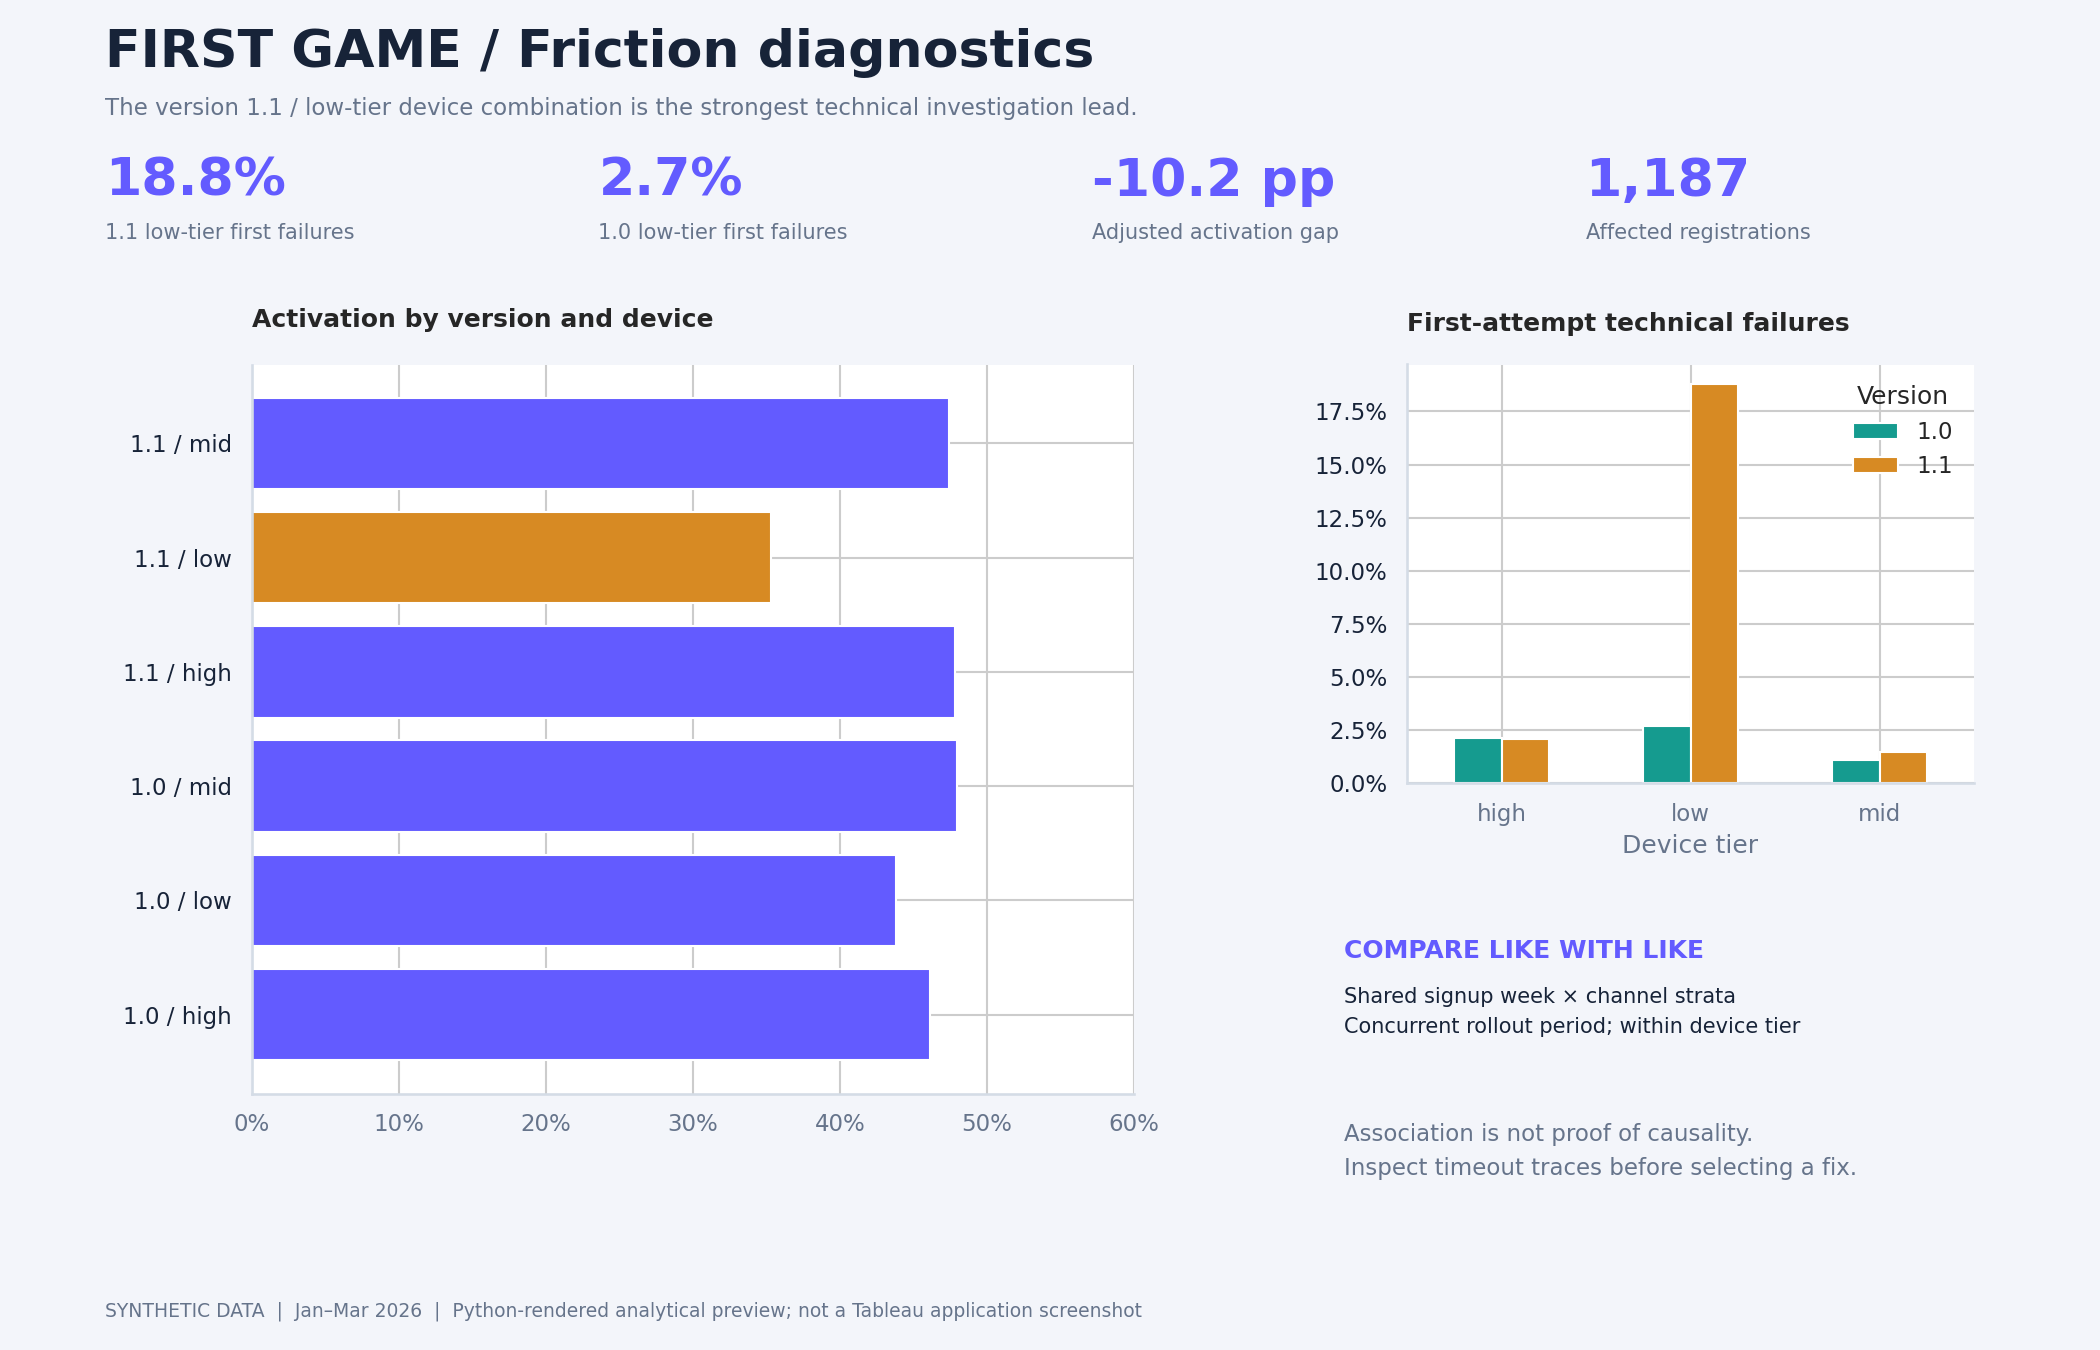

This screenshot's page, from the dashboard's own definition file:
{"tool":"tableau","page":{"name":"02 Friction diagnostics · SYNTHETIC","canvas":[1400,1000],"ordinal":1},"visuals":[{"type":"worksheet","title":"04 Activation by version and device","mark":"Bar","rows":["Category"],"cols":["Metric"],"box":[14,10,1372,320]},{"type":"worksheet","title":"05 First-attempt failure by version and device","mark":"Bar","rows":["Category"],"cols":["Metric"],"box":[14,340,1372,320]},{"type":"worksheet","title":"06 Queue abandonment by observed wait","mark":"Bar","rows":["Category"],"cols":["Metric"],"box":[14,670,1372,320]}]}

Visuals, with their boxes on the page's 1400x1000 design canvas (x1, y1, x2, y2). These are canvas units, not pixel positions in the 2100x1350 screenshot, which may show the page scaled, cropped or inside an application window:
"04 Activation by version and device" worksheet (Bar marks): rect(14, 10, 1386, 330)
"05 First-attempt failure by version and device" worksheet (Bar marks): rect(14, 340, 1386, 660)
"06 Queue abandonment by observed wait" worksheet (Bar marks): rect(14, 670, 1386, 990)
